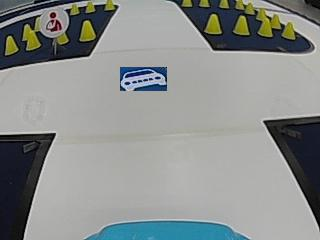cone: (204, 13, 222, 34), (25, 27, 40, 49), (80, 21, 96, 41), (258, 16, 273, 37), (234, 16, 249, 35), (4, 35, 18, 54), (282, 22, 296, 40), (103, 0, 115, 11), (85, 1, 95, 13), (69, 3, 79, 15), (180, 0, 193, 8), (218, 0, 229, 9), (198, 0, 210, 8)
patient: (39, 7, 68, 36)
